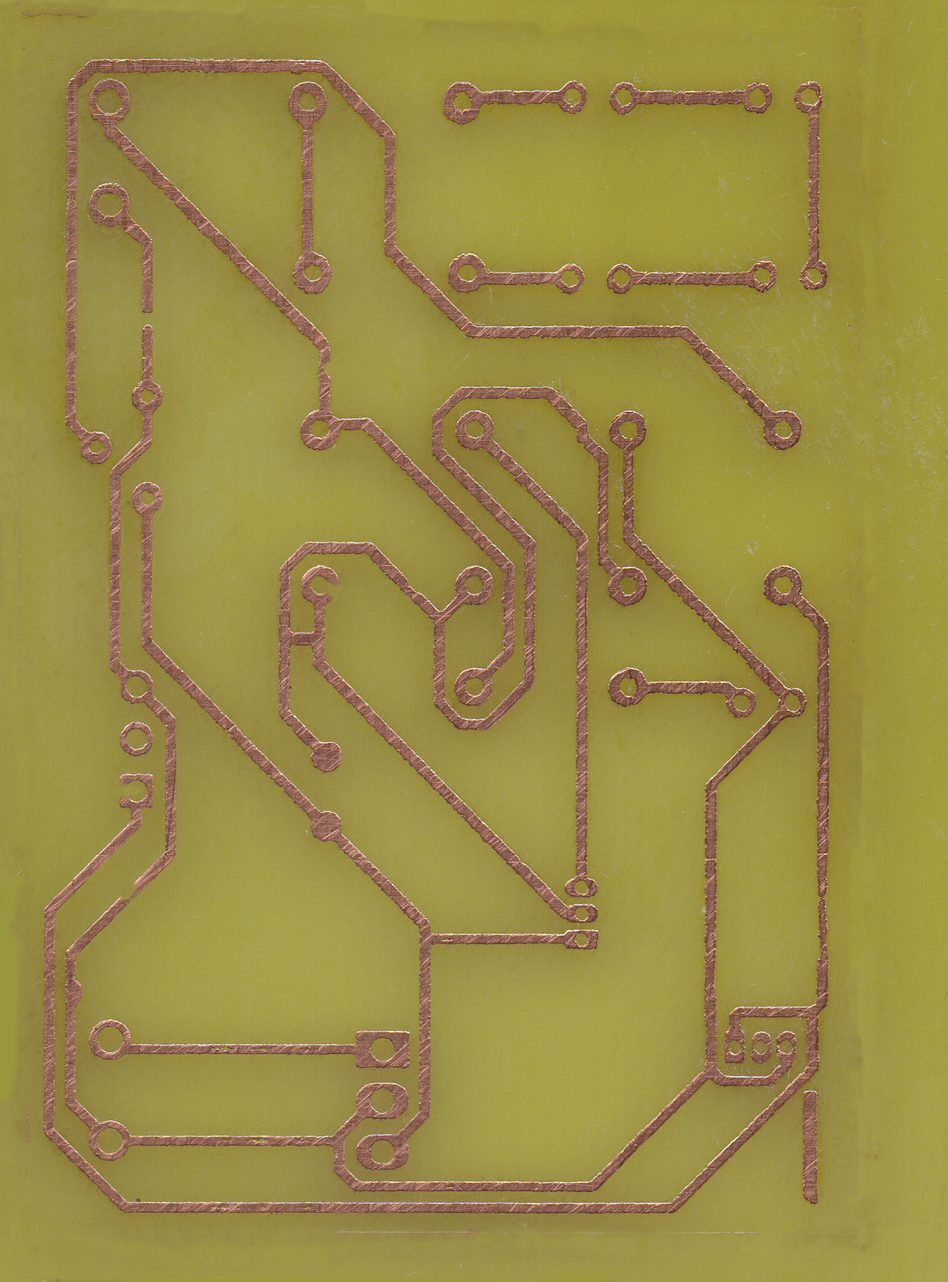missing_hole: (299, 562, 343, 608), (116, 771, 157, 812)
mouse_bite: (117, 879, 140, 904), (319, 354, 335, 386)
open_circuit: (138, 300, 159, 337)
short: (277, 615, 327, 655)
spur: (64, 974, 87, 1010)
spurious_copper: (800, 1088, 825, 1211)
